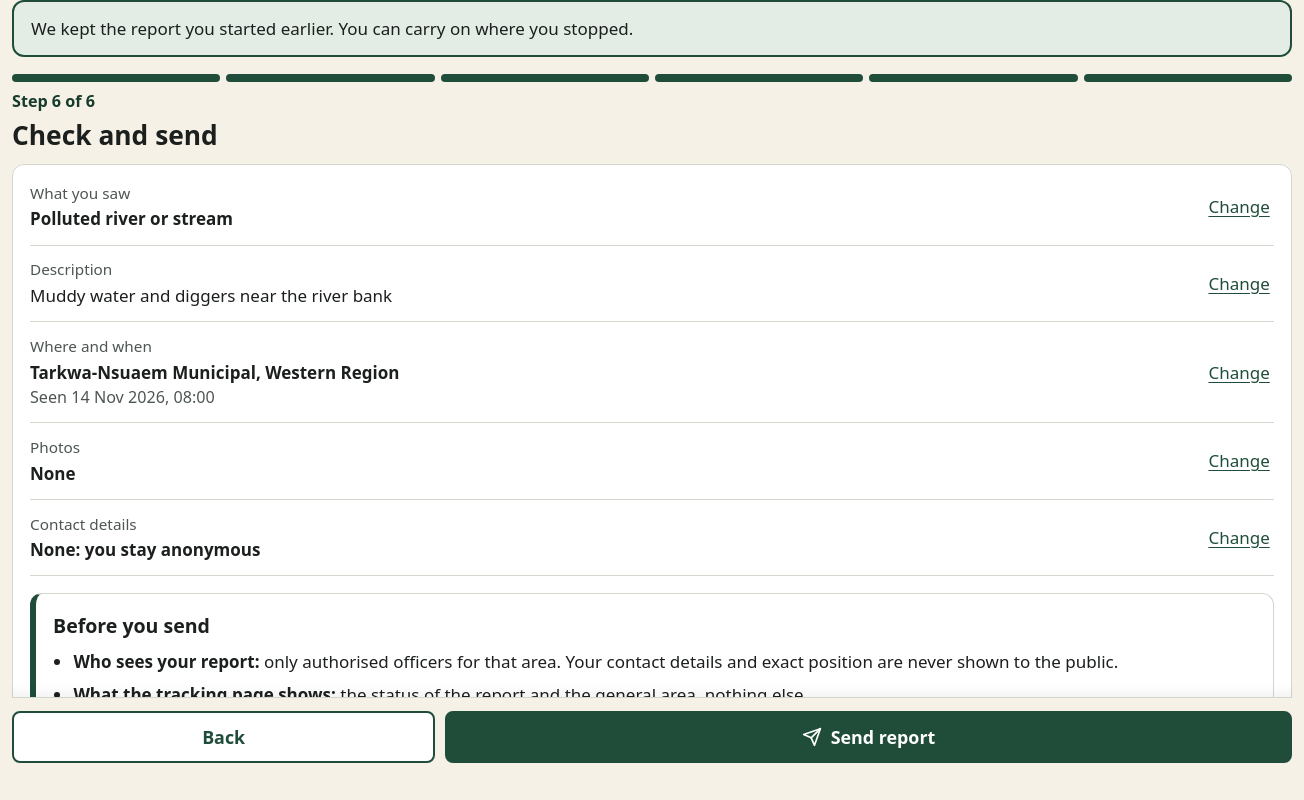
it: ReportPage, step by step › lists every answer on 'Check and send', with a way back to change each one
The width and height of the screenshot is (1304, 800).
Expected: the heading "Check and send" is shown, left=12, top=116, right=218, bottom=152
Expected: the element with class "review" shows "Polluted river or stream", left=30, top=208, right=233, bottom=230
Click the button with aria-label "Change where and when": point(1239, 372) left=1204, top=350, right=1274, bottom=394
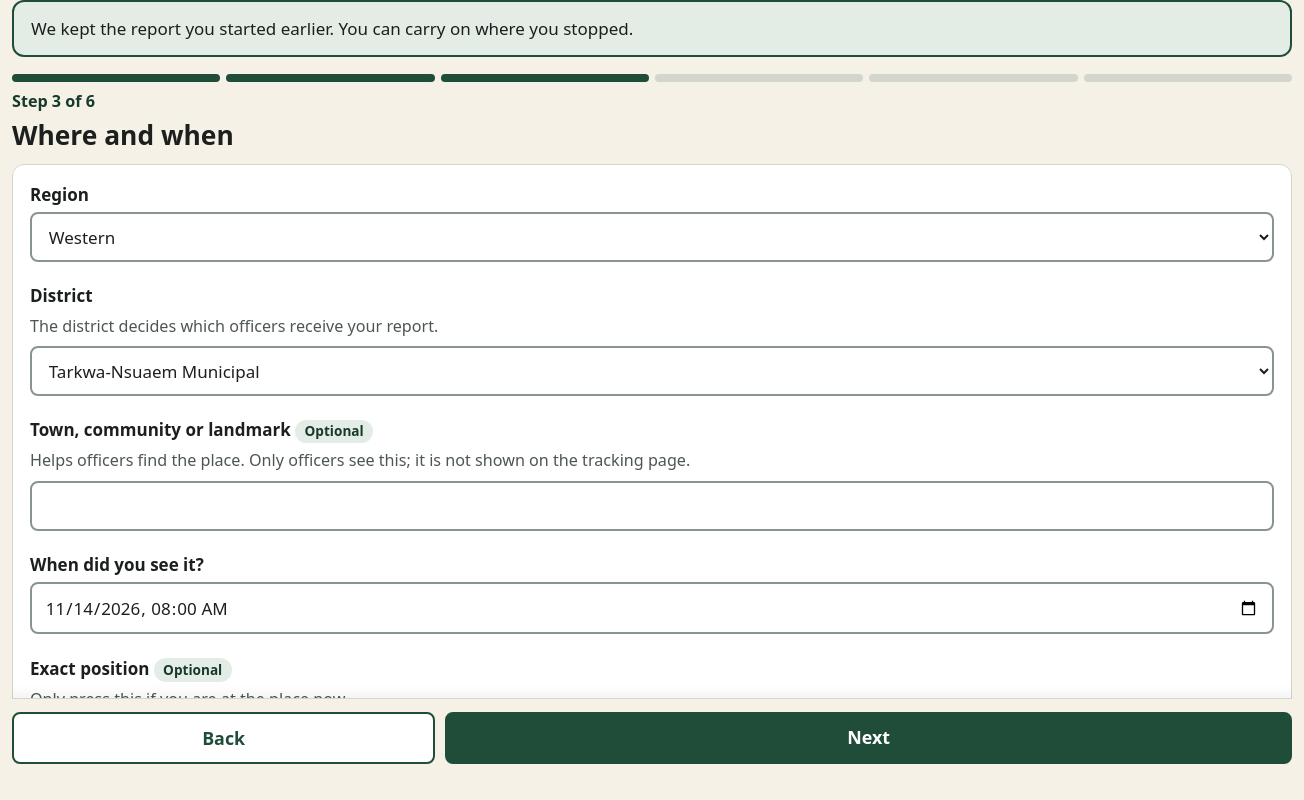
Result: the heading "Where and when" is shown at left=12, top=116, right=234, bottom=152
Result: the dropdown labelled "District" shows "Tarkwa-Nsuaem Municipal" at left=30, top=346, right=1274, bottom=396
